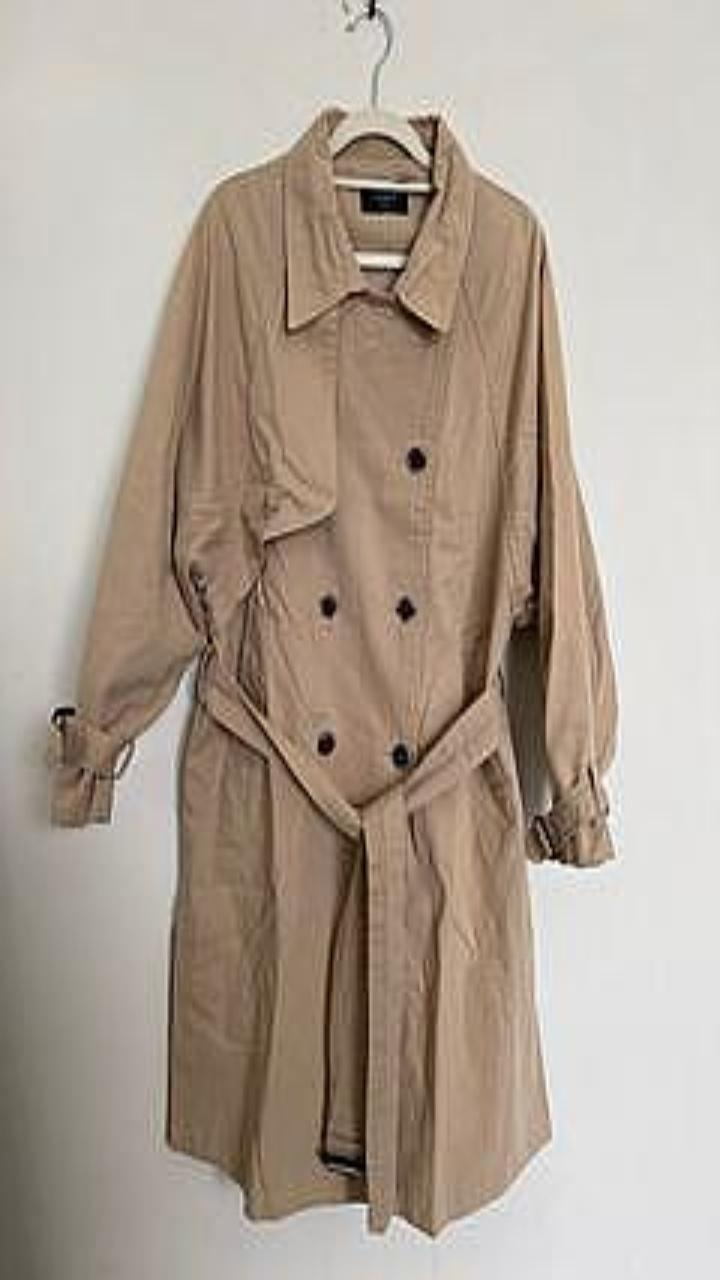Coat: (48, 105, 616, 1234)
